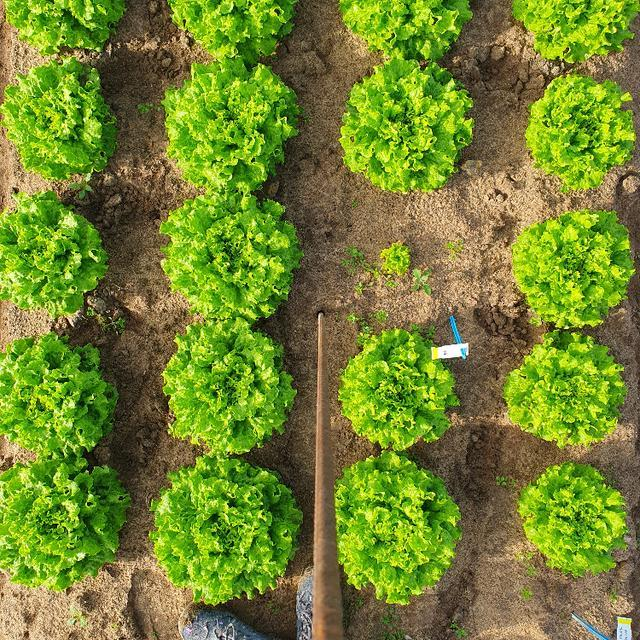Lettuce: (152, 452, 306, 610), (162, 50, 302, 195), (340, 50, 477, 197), (328, 457, 465, 603), (163, 185, 300, 322), (0, 455, 136, 593), (162, 315, 296, 448), (337, 328, 460, 454), (0, 330, 121, 458), (3, 57, 124, 183), (512, 210, 638, 330), (503, 330, 627, 447), (0, 192, 115, 316), (518, 458, 632, 577), (525, 73, 638, 192), (506, 0, 640, 68), (163, 0, 300, 65), (335, 0, 477, 60), (0, 0, 130, 53), (373, 237, 412, 280)
